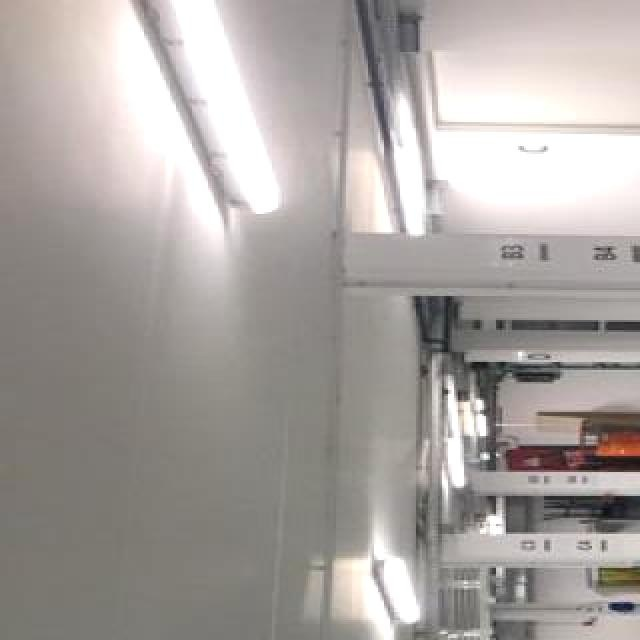fluorescent tube: (142, 0, 300, 262), (362, 526, 424, 640)
